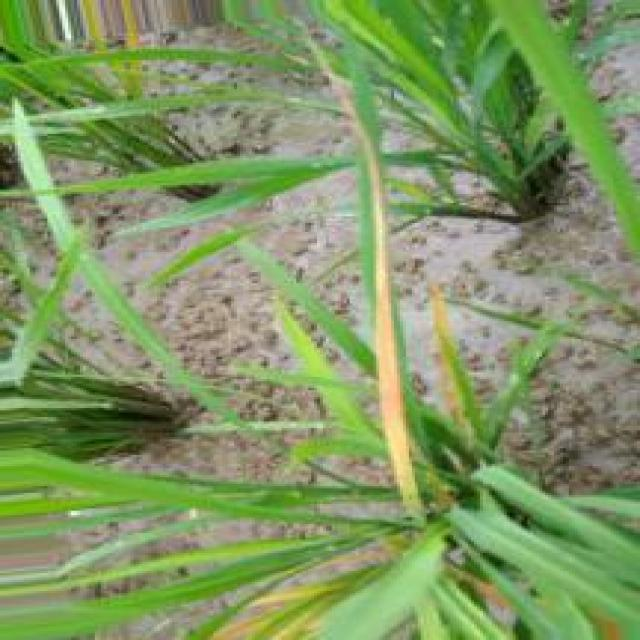Rice Tungro: (323, 61, 422, 518)
